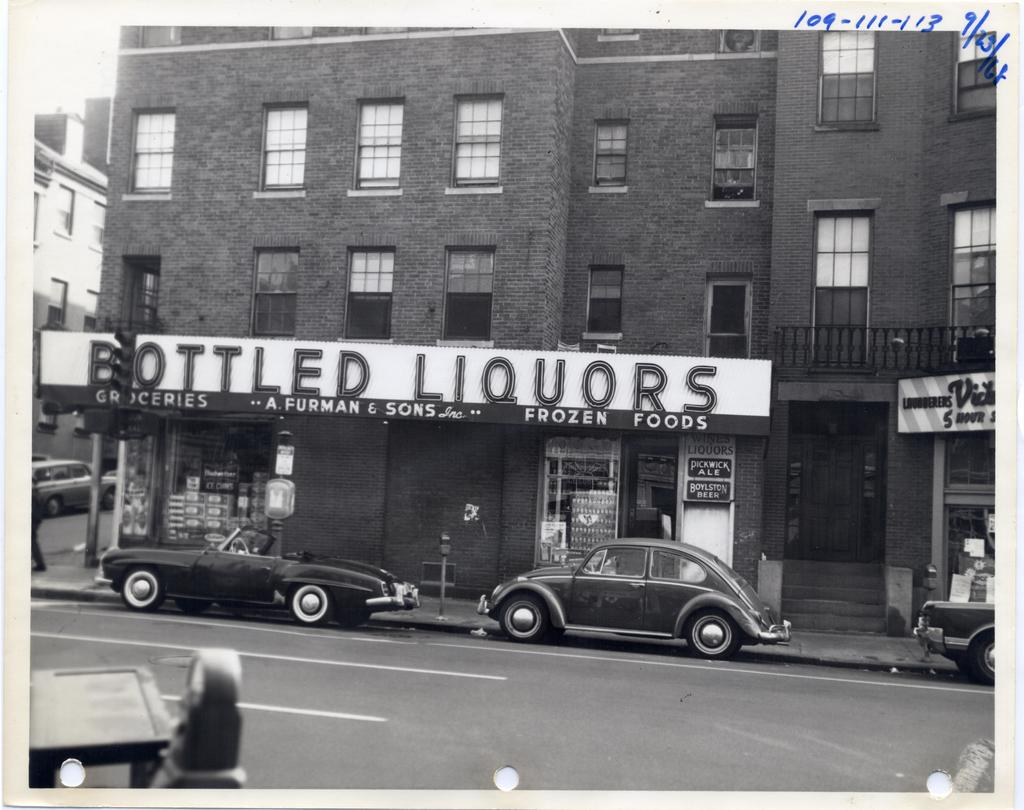Car: (475, 534, 788, 662), (92, 518, 415, 621), (912, 605, 995, 681), (33, 459, 119, 514)
